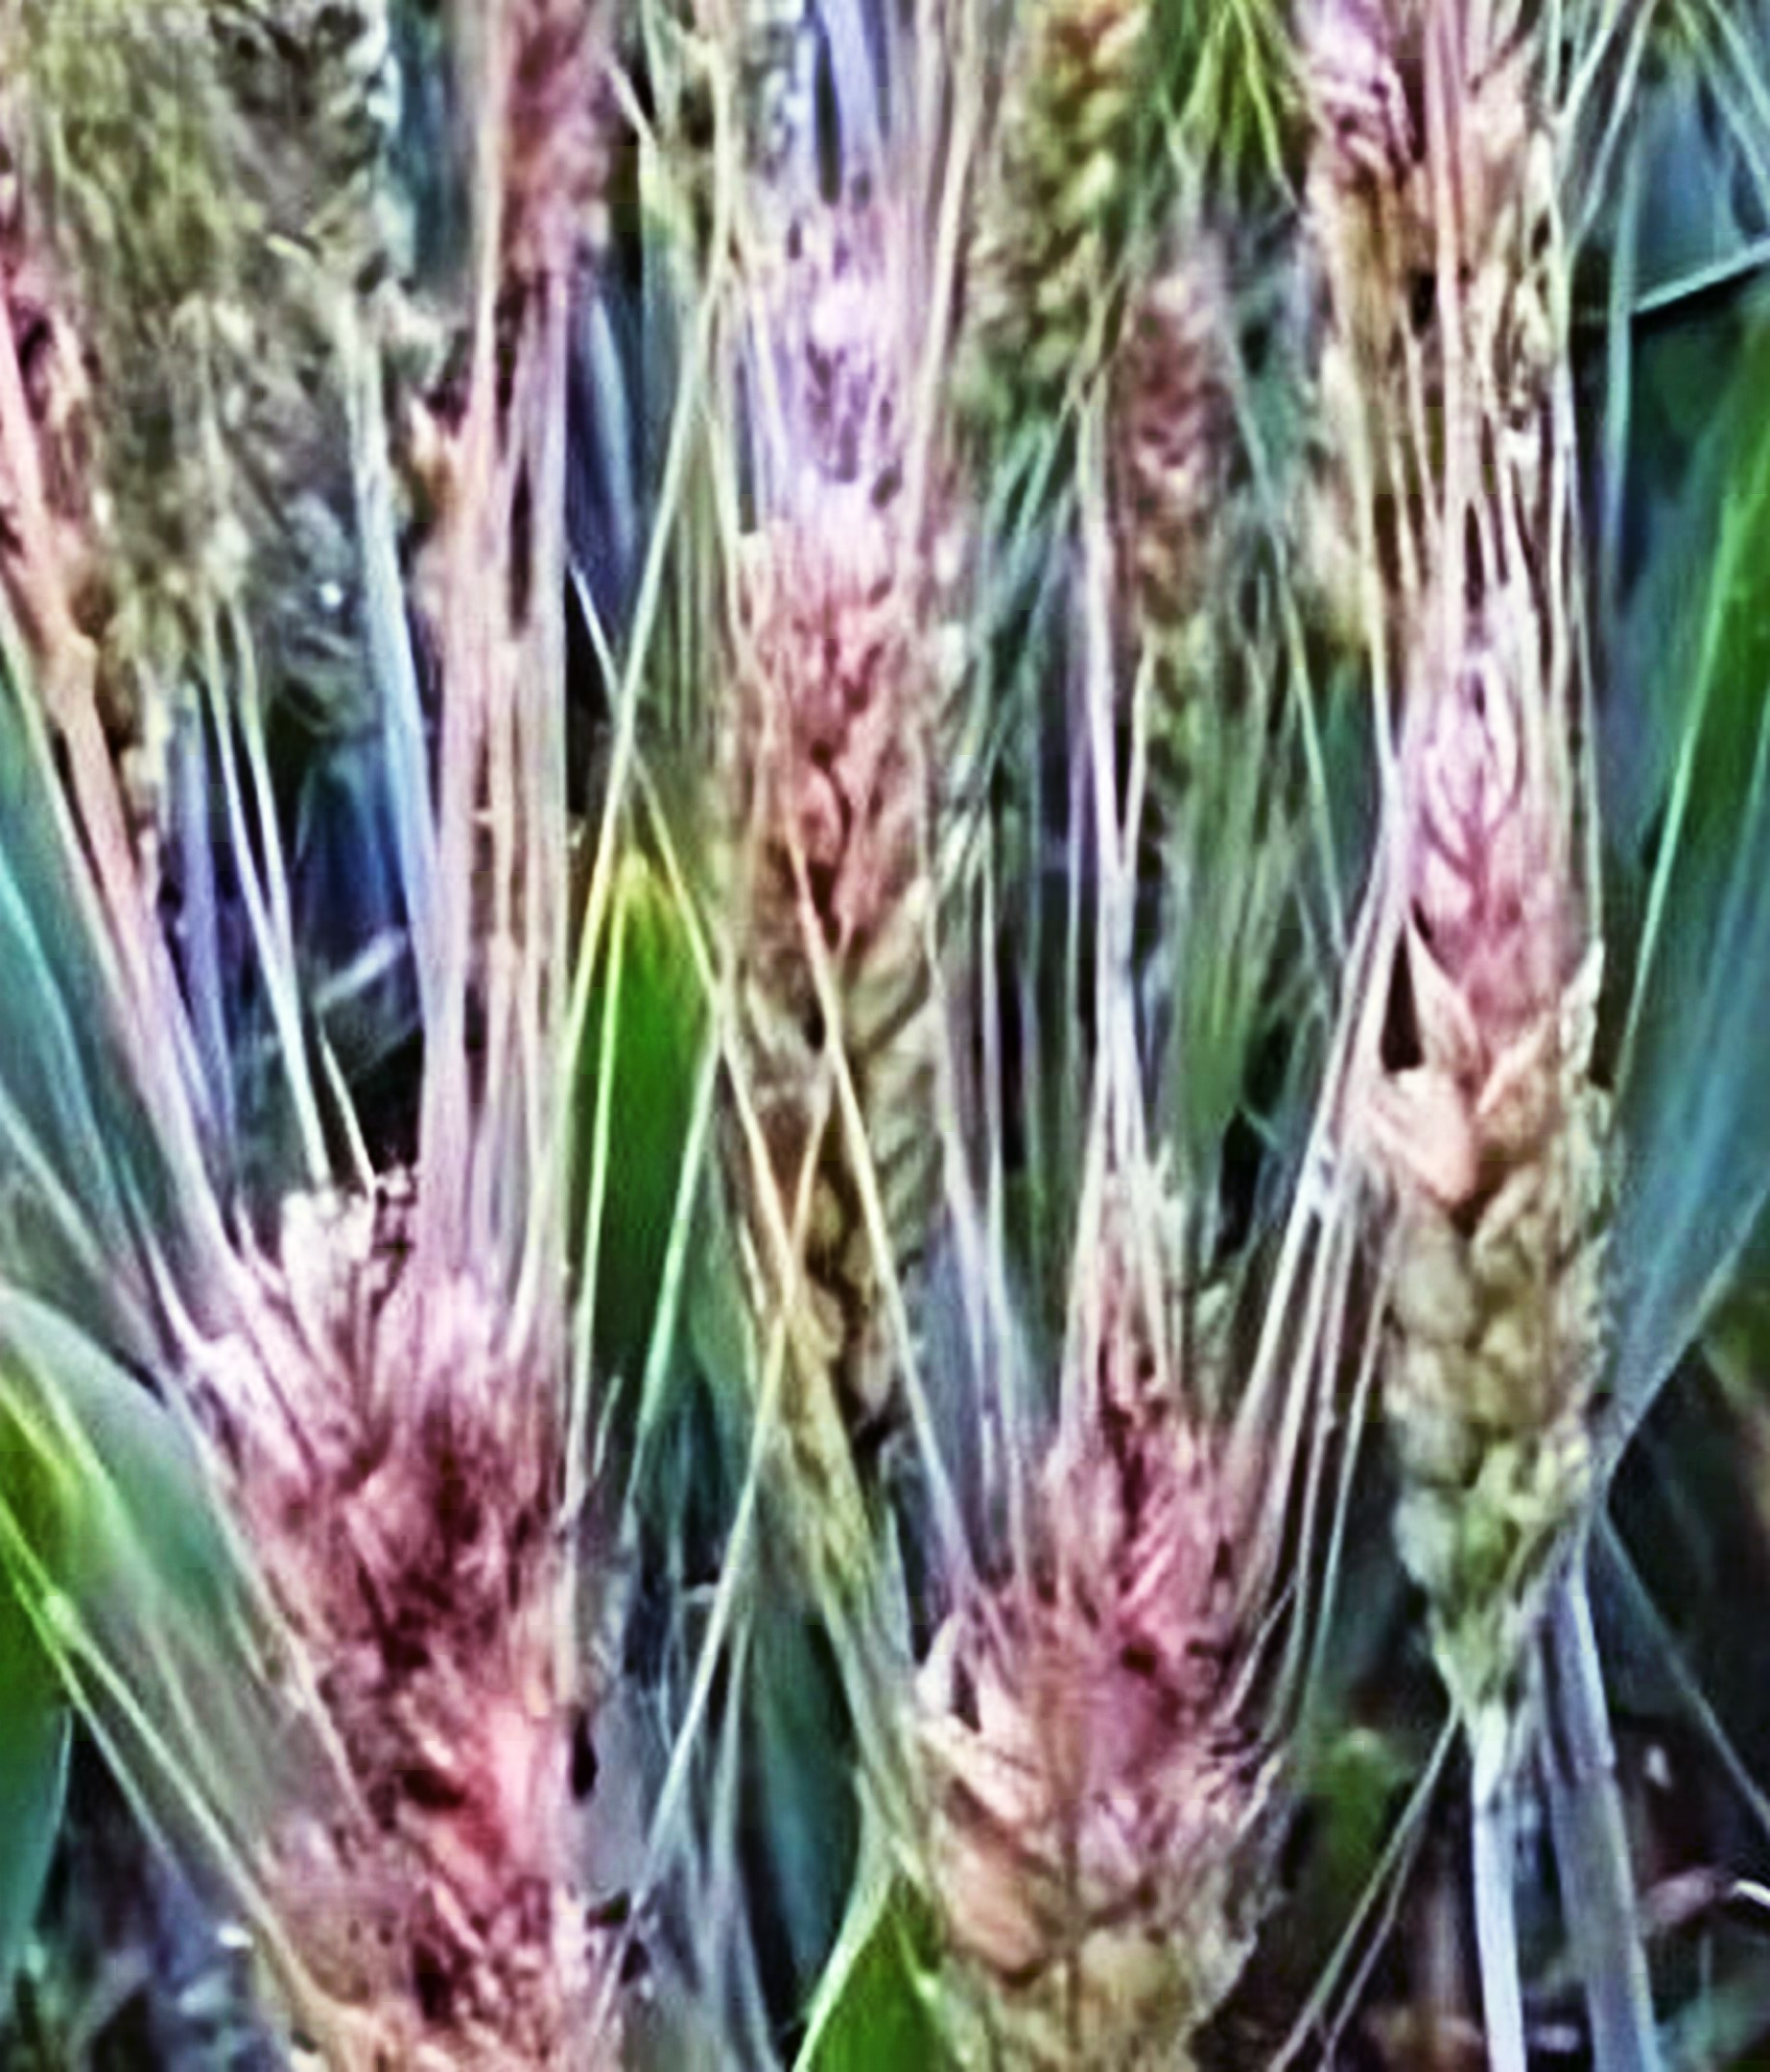Wheat scab: (1368, 706, 1617, 1666)
